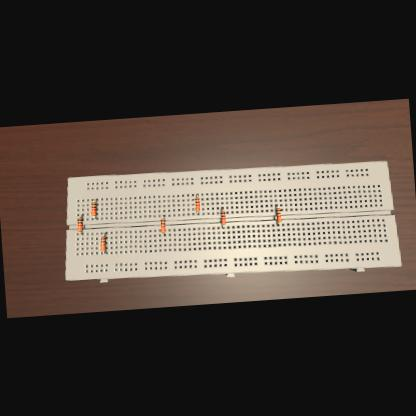breadboard: (59, 155, 402, 292)
resistor: (100, 236, 107, 250), (76, 218, 84, 230), (90, 202, 97, 214), (276, 208, 282, 222), (160, 218, 166, 232), (221, 210, 226, 224), (195, 197, 200, 210)
wire: (103, 232, 107, 236), (93, 216, 98, 219), (80, 214, 83, 218), (275, 204, 278, 208), (94, 199, 98, 201), (276, 222, 280, 224), (103, 252, 107, 254), (162, 216, 164, 219), (80, 232, 83, 234), (163, 233, 166, 235), (221, 208, 223, 210), (198, 211, 199, 214), (223, 225, 224, 227), (198, 194, 198, 196)
